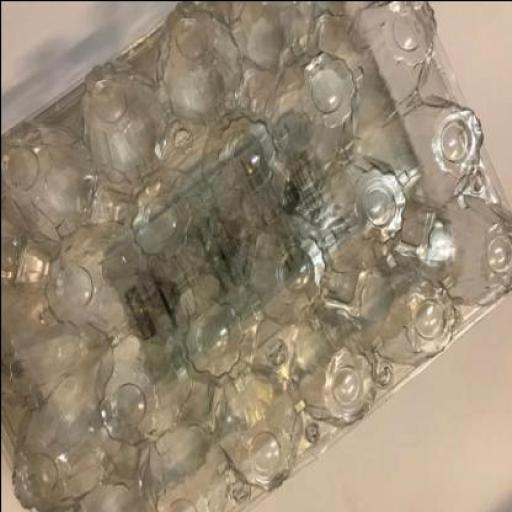plastic: (0, 1, 511, 512)
